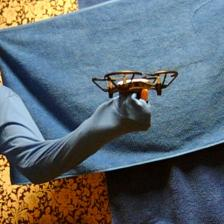drone: (92, 66, 180, 96)
